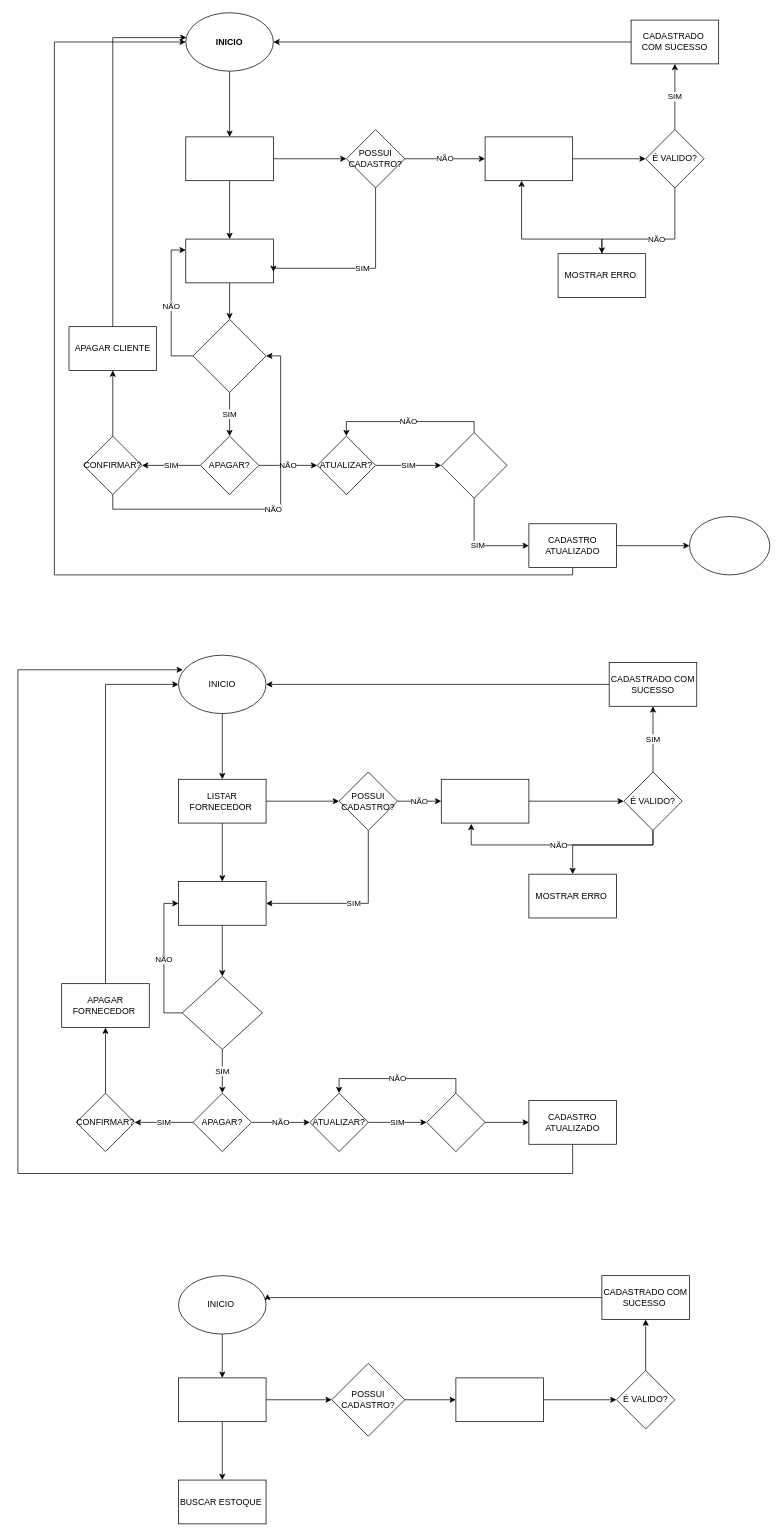
The diagram is 783 pixels wide and 1537 high, and some of its shapes have lost their labels. The shapes that lost their labels are listed below. From the top down, each one's centre as x and y in pixels, then its label:
[229,158]: LISTAR CLIENTE
[528,158]: CADASTRAR CLIENTE
[229,260]: BUSCAR CLIENTE
[229,355]: CLIENTE ENCONTRADO?
[474,465]: OS DADOS SÃO VALIDOS?
[729,545]: FIM
[485,801]: CADASTRAR FORNECEDOR
[222,903]: BUSCAR FORNECEDOR
[221,1012]: FORNECEDOR ENCONTRADO?
[455,1122]: DADOS SÃO VALIDOS?
[222,1399]: LISTAR ESTOQUE
[499,1399]: CADASTRAR ESTOQUE
